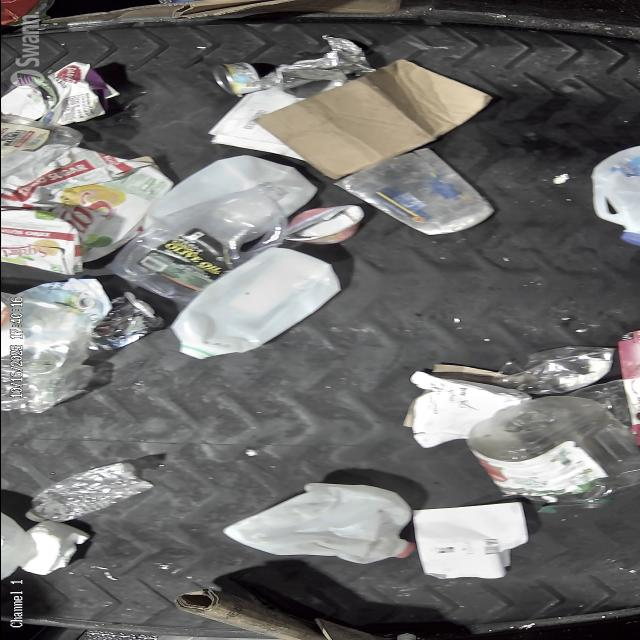can: (215, 59, 268, 95)
milk_jug: (173, 252, 331, 356), (218, 483, 416, 563)
plastic_bottle: (22, 462, 151, 520)
